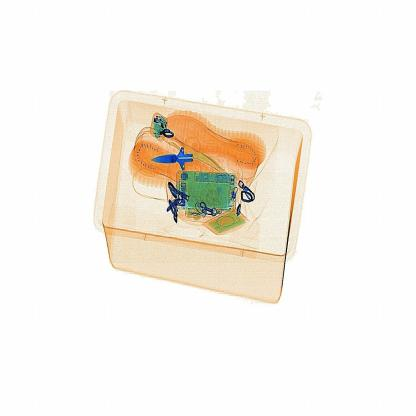gun: (153, 130, 206, 186)
